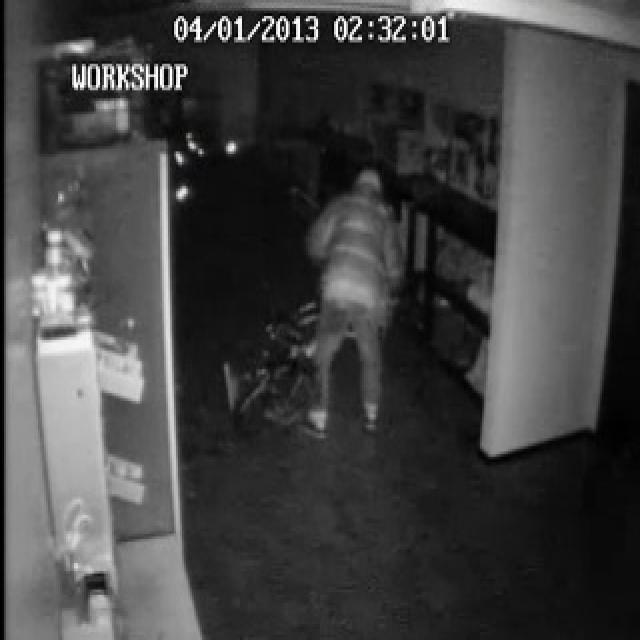thief: (324, 150, 392, 443)
